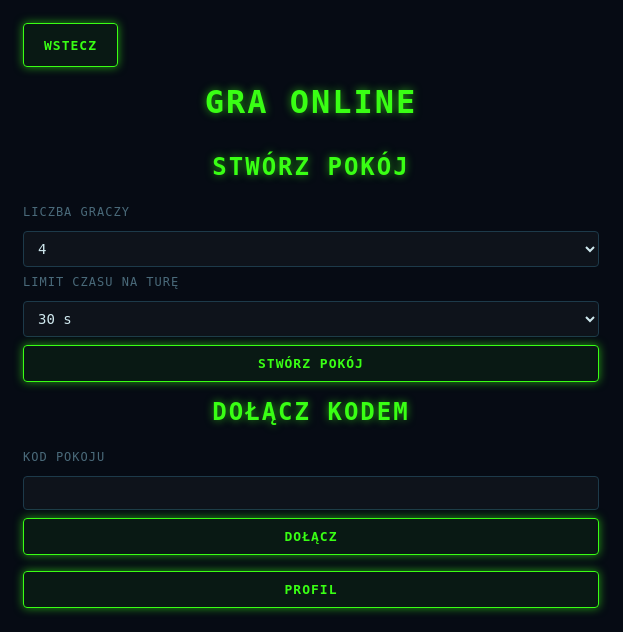
it: OnlineMenuScreen › shows a pending label on Join and disables both buttons while joining a room
The width and height of the screenshot is (623, 632).
Type "ABCDE" into the field labelled "Kod pokoju" at (311, 493), box [23,476,599,510]
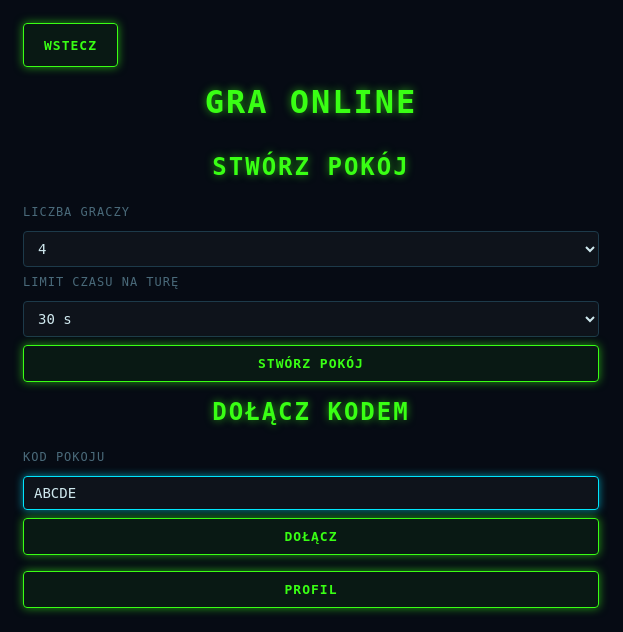
Click the button "Dołącz" at (311, 536), box [23,518,599,555]
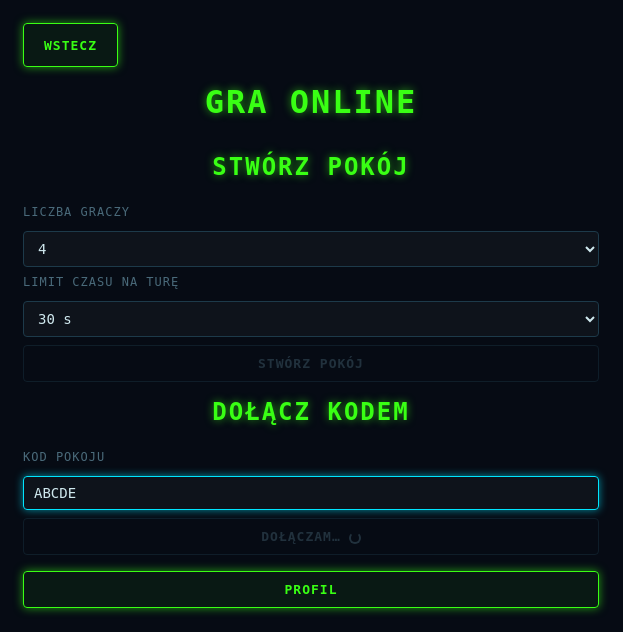
Result: the button "Dołączam…" is disabled at [23,518,599,555]
Result: the button "Stwórz pokój" is disabled at [23,345,599,382]
